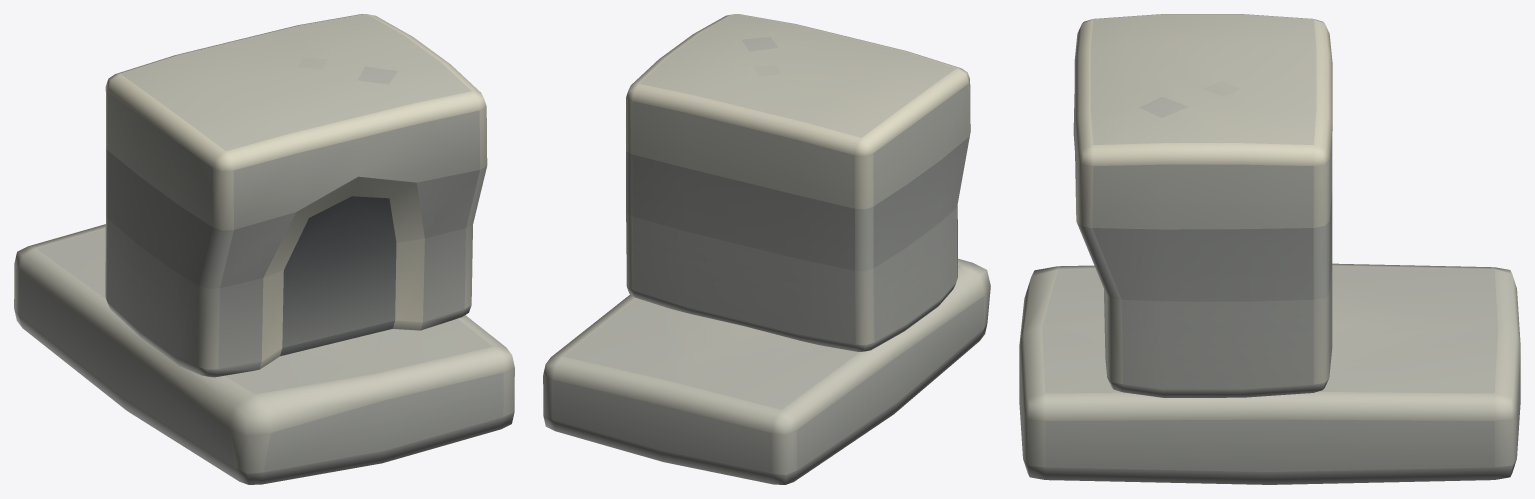
The model's file is ballustrade_ornate1_2_LOD_setup.fbx.
3 renders of one model, left to right at view 1: azimuth 30°, elevation 25°; view 2: azimuth 150°, elevation 25°; view 3: azimuth 270°, elevation 25°, orthographic. The views are drawn at different scales.
Parts seen in each view (by area): view 1: ballustrade_ornate1_2_LOD0; view 2: ballustrade_ornate1_2_LOD0; view 3: ballustrade_ornate1_2_LOD0.
Boxes of the visible parts, x1=… form: ballustrade_ornate1_2_LOD0: x1=14, y1=14, x2=514, y2=484; ballustrade_ornate1_2_LOD0: x1=543, y1=14, x2=990, y2=484; ballustrade_ornate1_2_LOD0: x1=1019, y1=14, x2=1520, y2=484.
Size of what is drawn, in the model's own units: 108 by 121 by 158.
